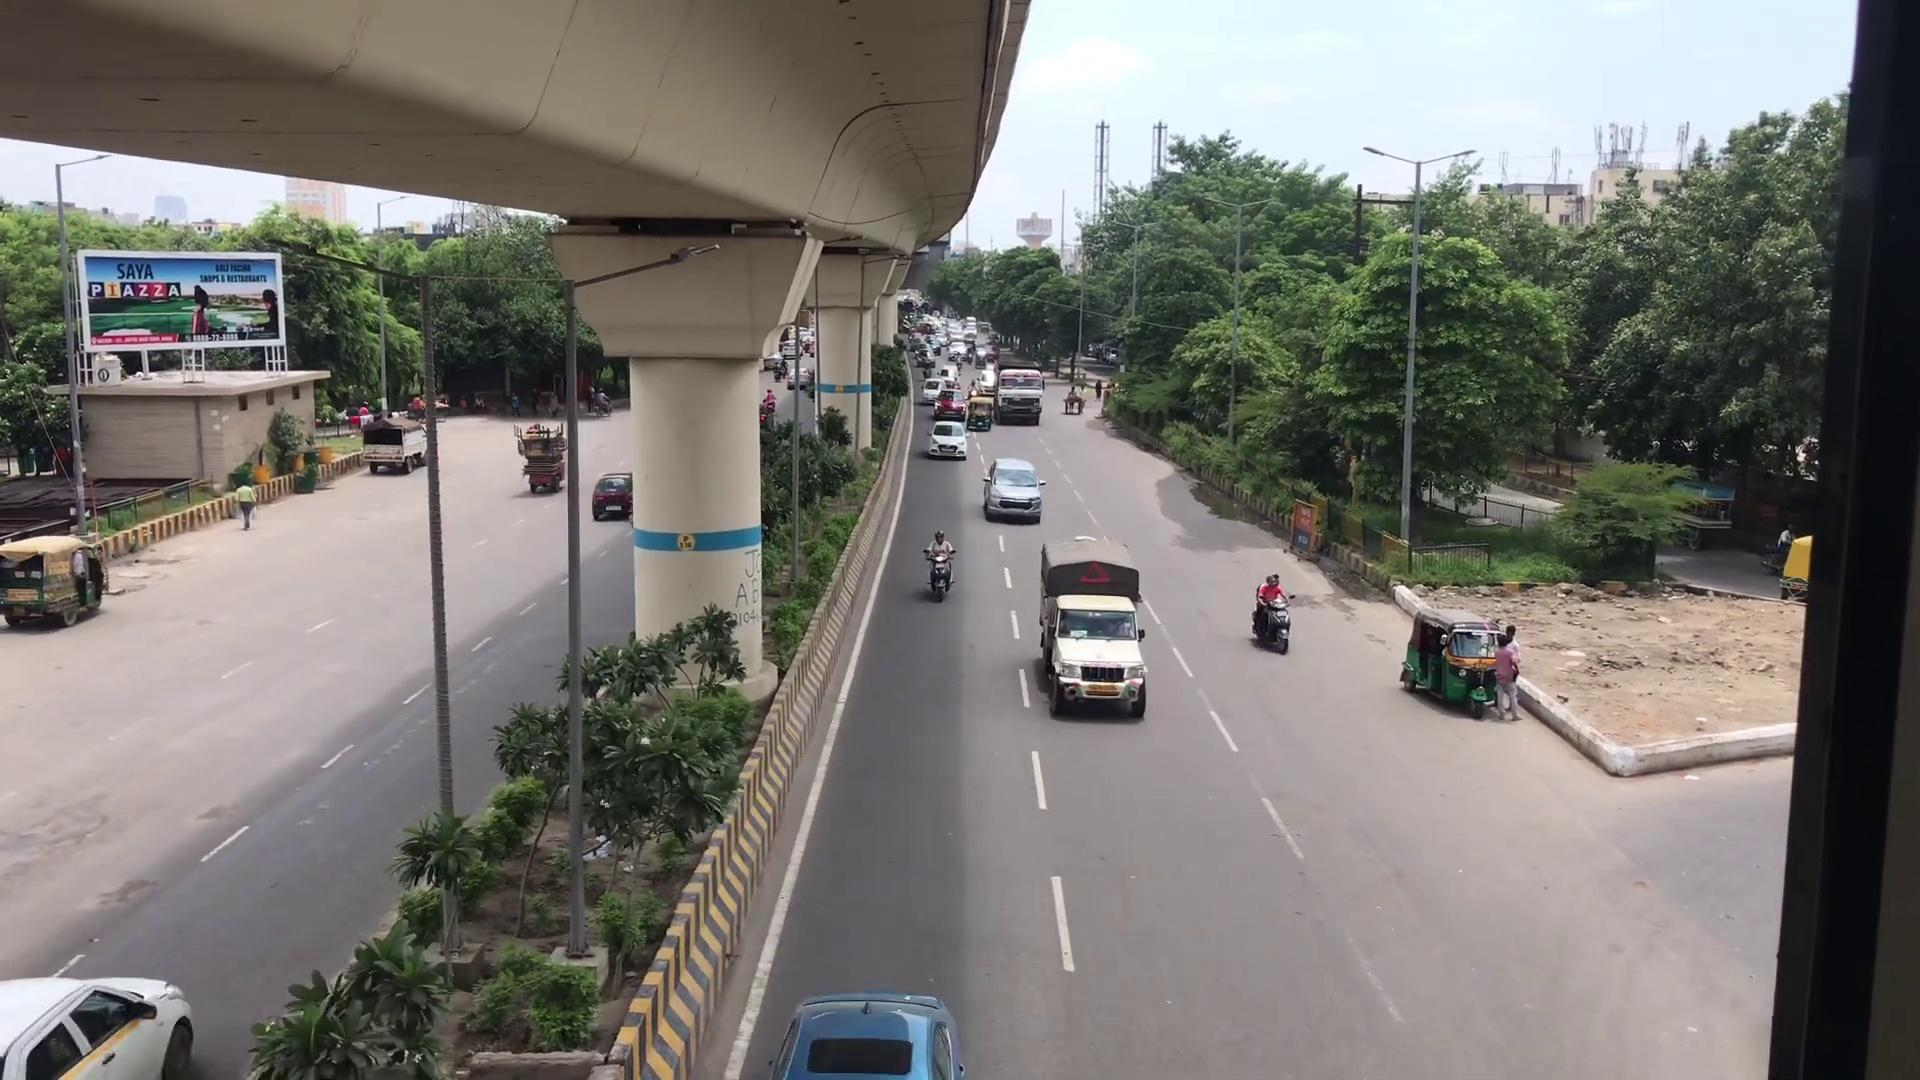Auto: (1402, 589, 1520, 713), (0, 527, 103, 632)
Bike: (1251, 563, 1294, 653), (922, 524, 955, 603)
Car: (770, 985, 961, 1077)
Truck: (1036, 542, 1147, 723)
